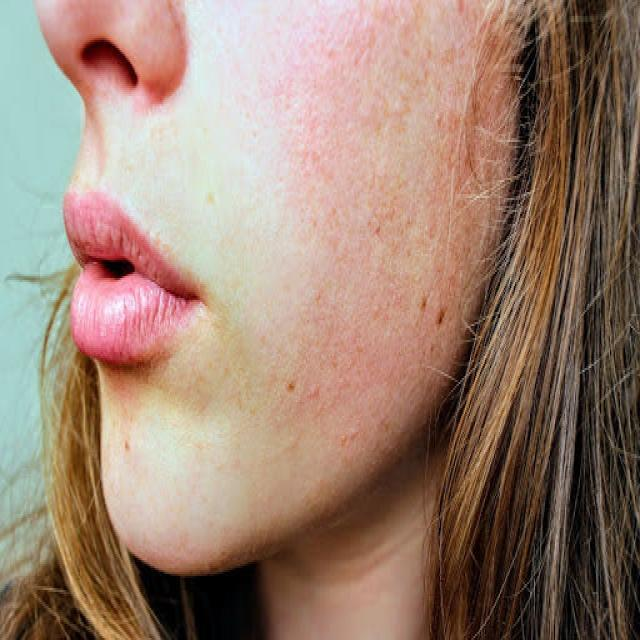dry: (236, 32, 424, 470)
